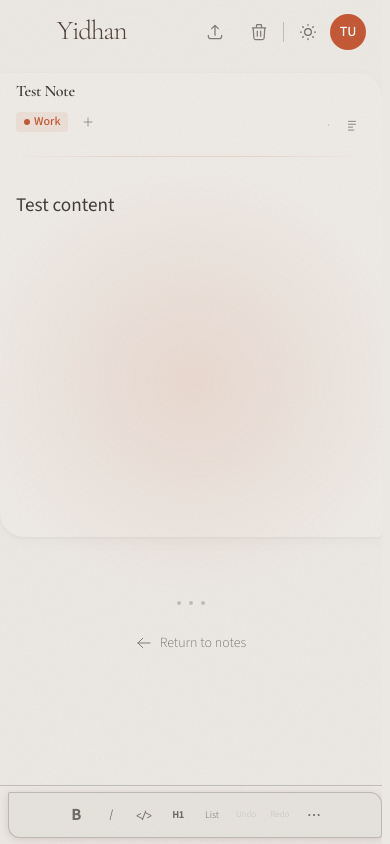
Test: Editor › auto-save › keeps failed drafts open on Escape and exposes Retry and Copy in focus mode
This screenshot has width=390, height=844.
Step 1. Replace the text in the text box showing "Test Note" with "Keep these words" → (191, 91), box [16,81,366,101]
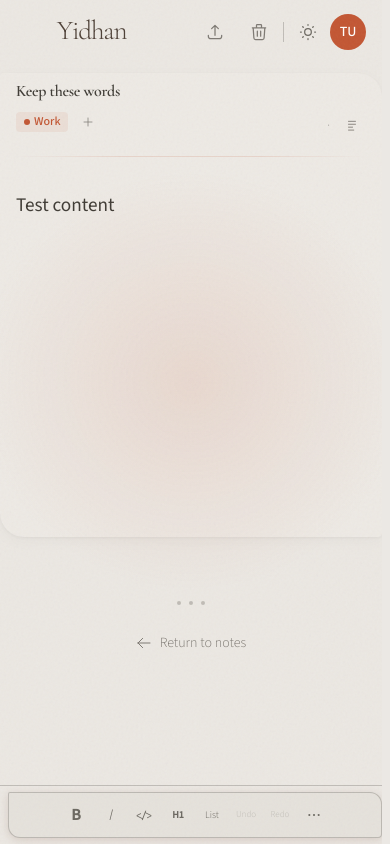
Step 2. Press Escape
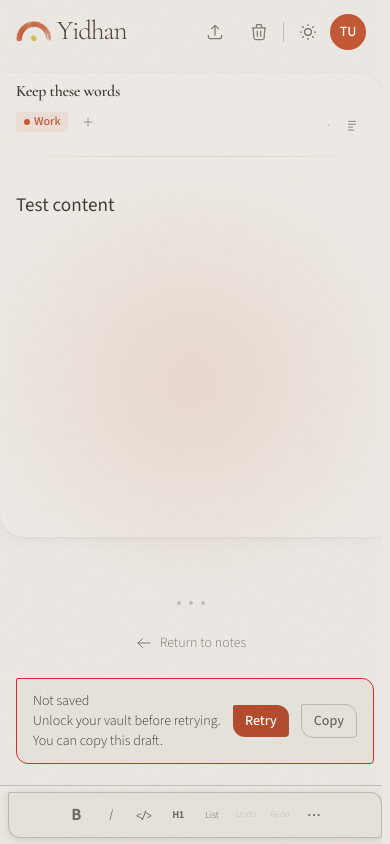
Step 3. Press F
Wait 6000 ms
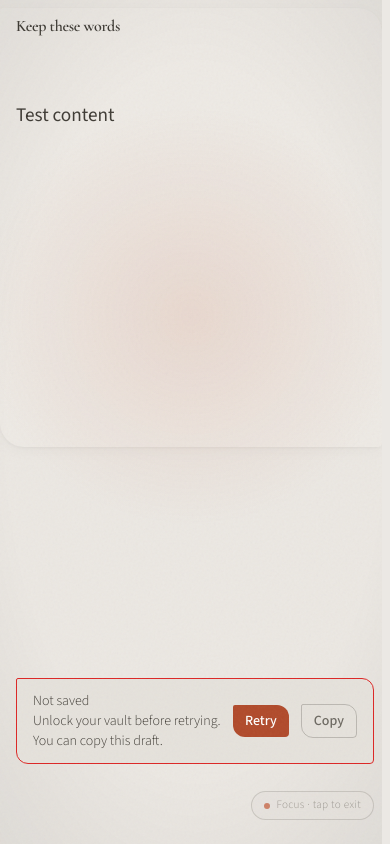
expect the message shows "Not saved": met, box [33,691,89,711]
expect the message shows "Unlock your vault before retrying": met, box [33,711,221,751]
Step 4. Click the button "Retry" → (261, 721), box [233,705,289,737]
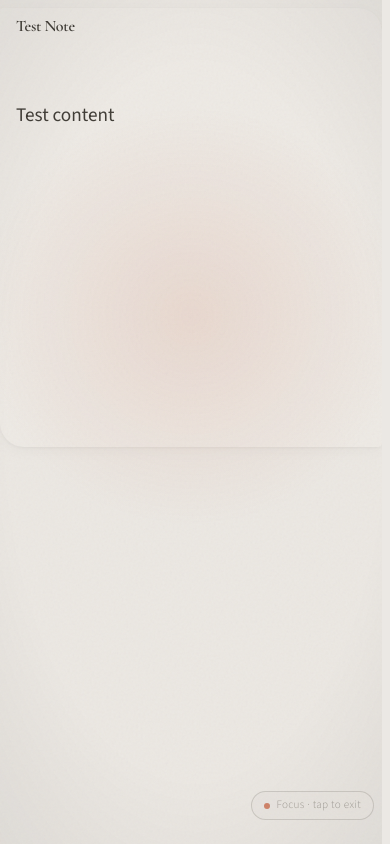
expect the message is gone: met
